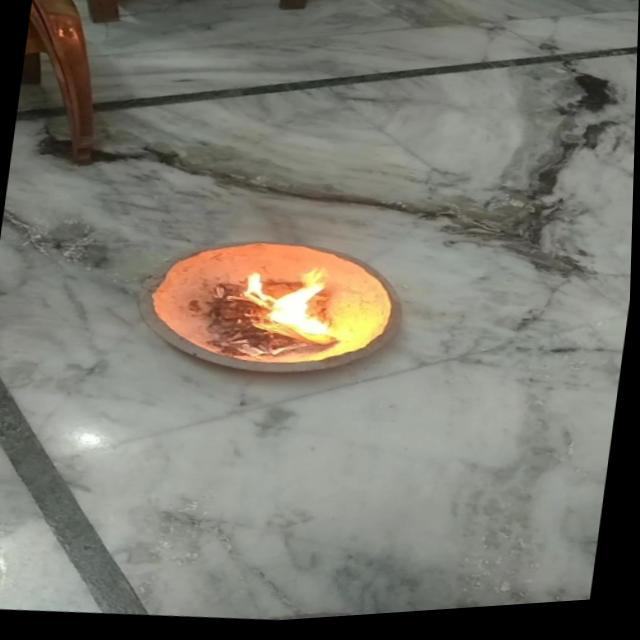fire: (233, 261, 352, 359)
